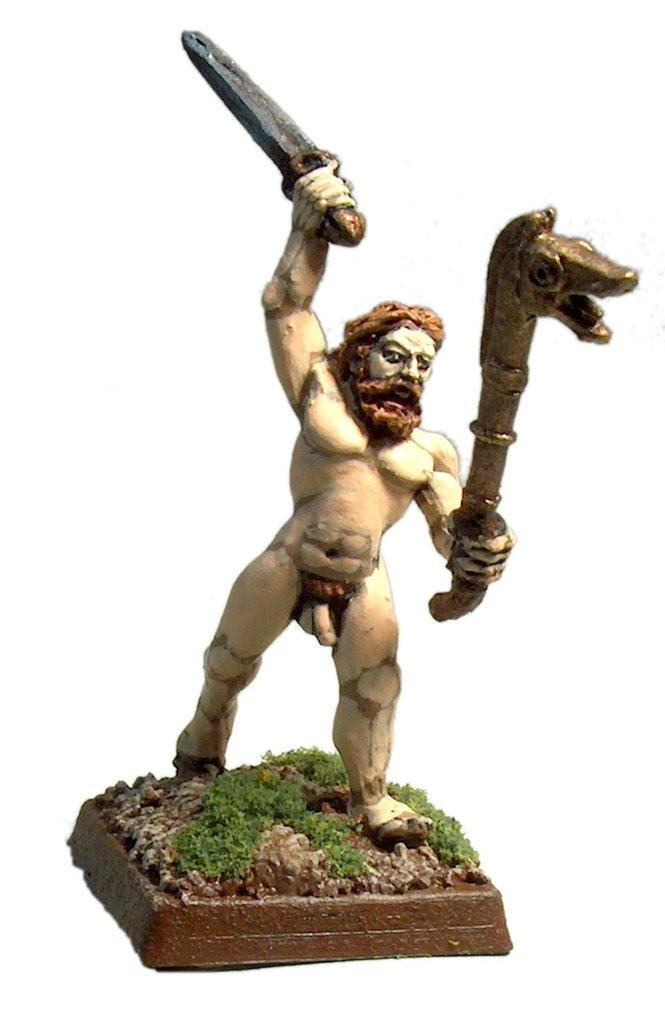Sword: (167, 19, 370, 272)
